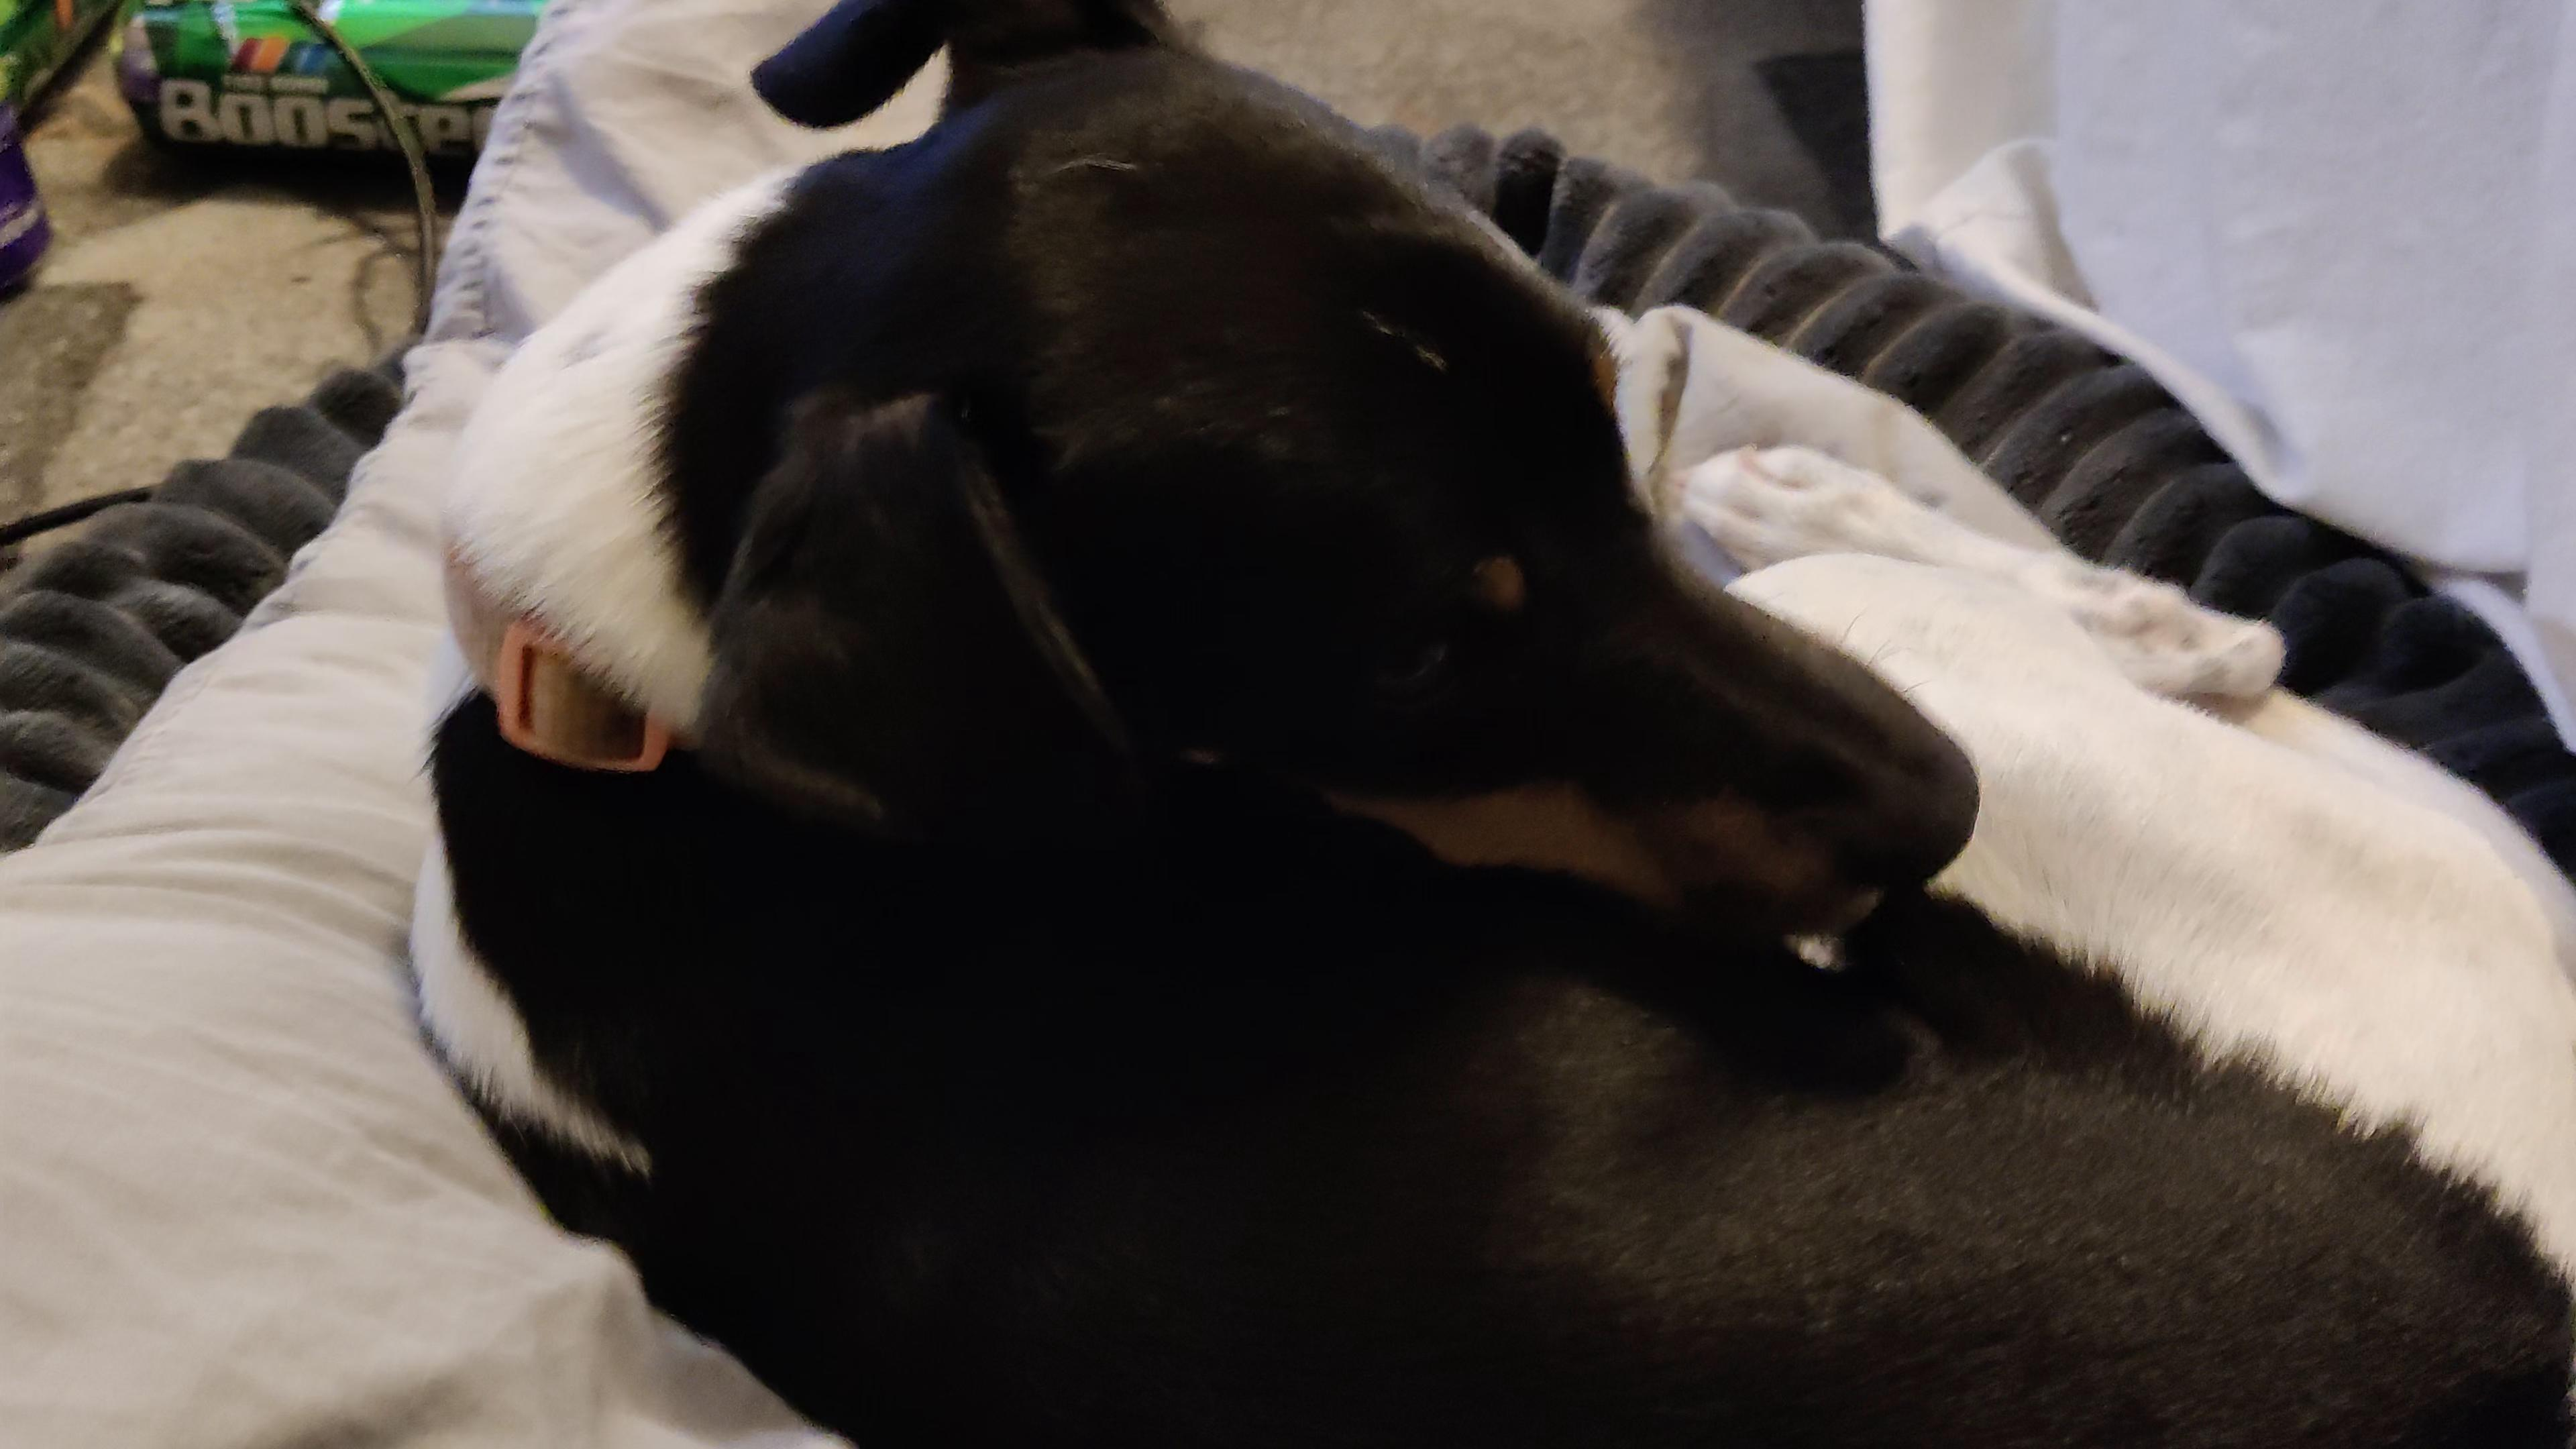Dog: (382, 0, 2576, 1449)
